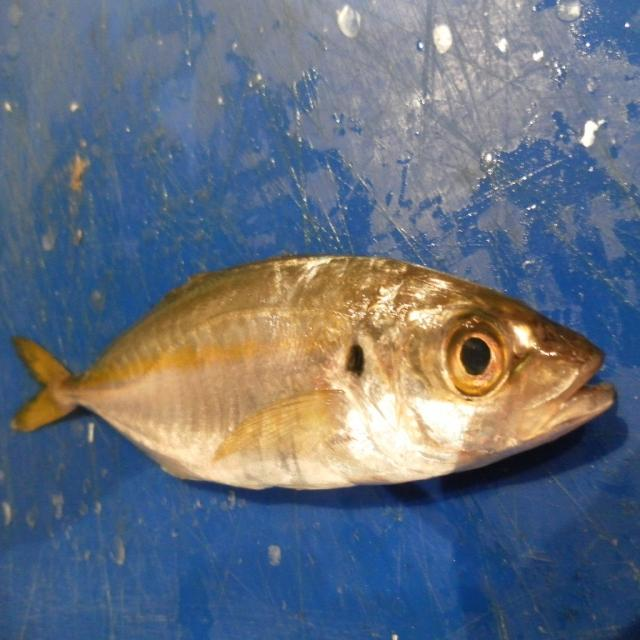Hourse-Mackerel-istavrit-: (10, 255, 617, 494)
